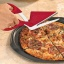pizza: (21, 22, 64, 59)
